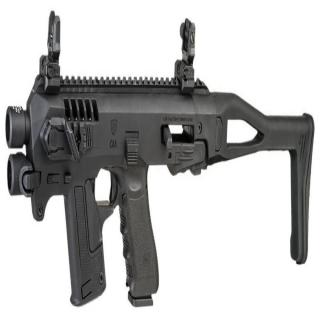gun: (3, 7, 316, 317)
